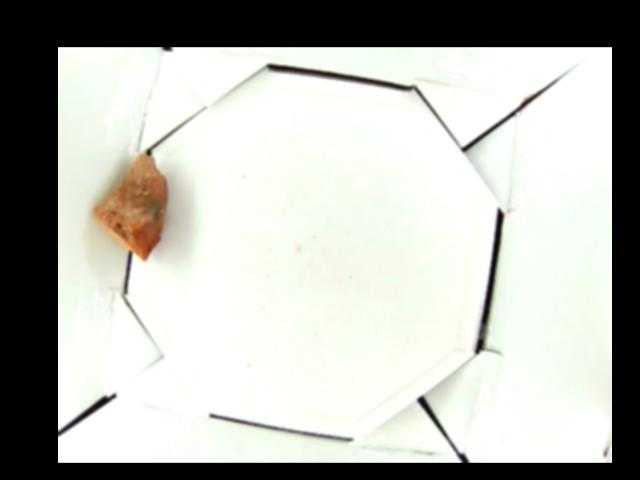Brisk: (96, 155, 167, 260)
